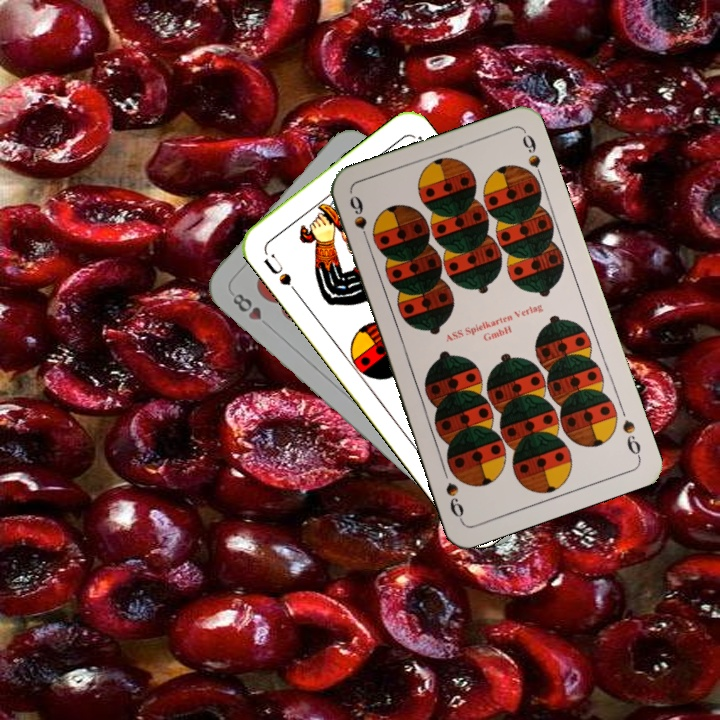H8: (228, 289, 275, 332)
S9: (345, 191, 373, 249), (618, 415, 644, 461)
SU: (259, 247, 301, 297)
